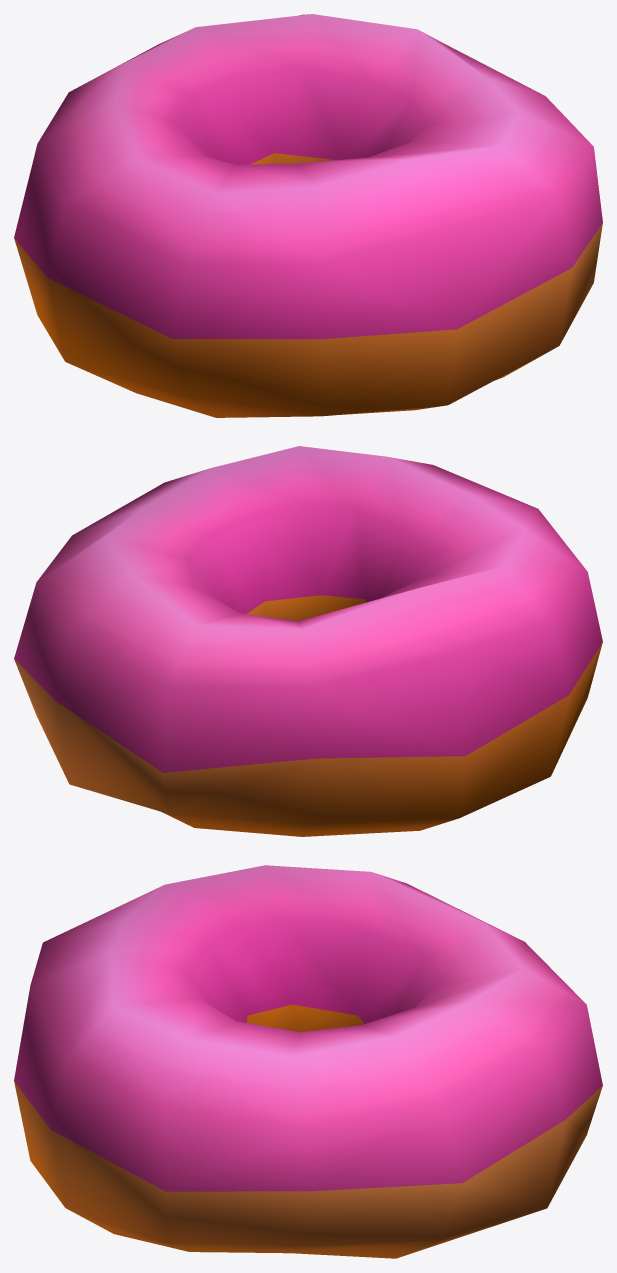
Rendered from donut.fbx.
3 renders of one model, top to bottom at view 1: azimuth 30°, elevation 25°; view 2: azimuth 150°, elevation 25°; view 3: azimuth 270°, elevation 25°, orthographic. The views are drawn at different scales.
Parts seen in each view (by area): view 1: donut; view 2: donut; view 3: donut.
Part boxes in pixels (x1,y1,x2,y2): donut: [14, 14, 602, 417]; donut: [14, 446, 602, 836]; donut: [14, 865, 602, 1258].
Bounding box in the file's own units: 9.99 × 4.62 × 9.88.
